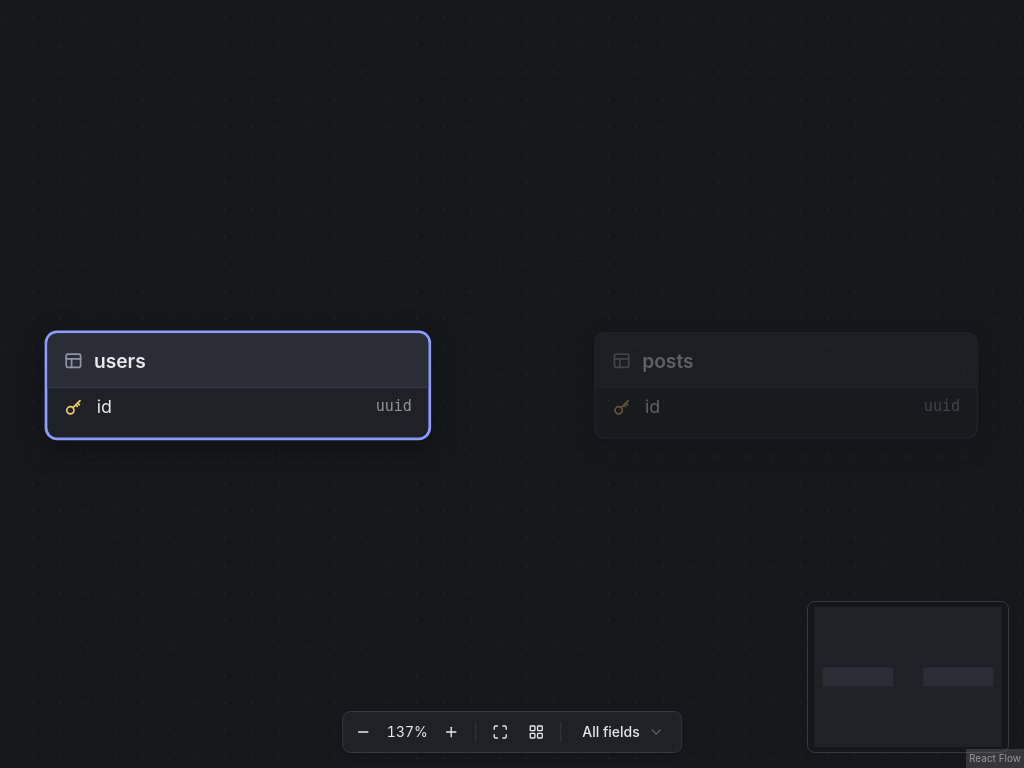
DiagramCanvas layout feedback › asks before replacing the layout, and keeps it when cancelled
Click the button named "Rearrange all tables" at (536, 732), box [520,716,552,748]
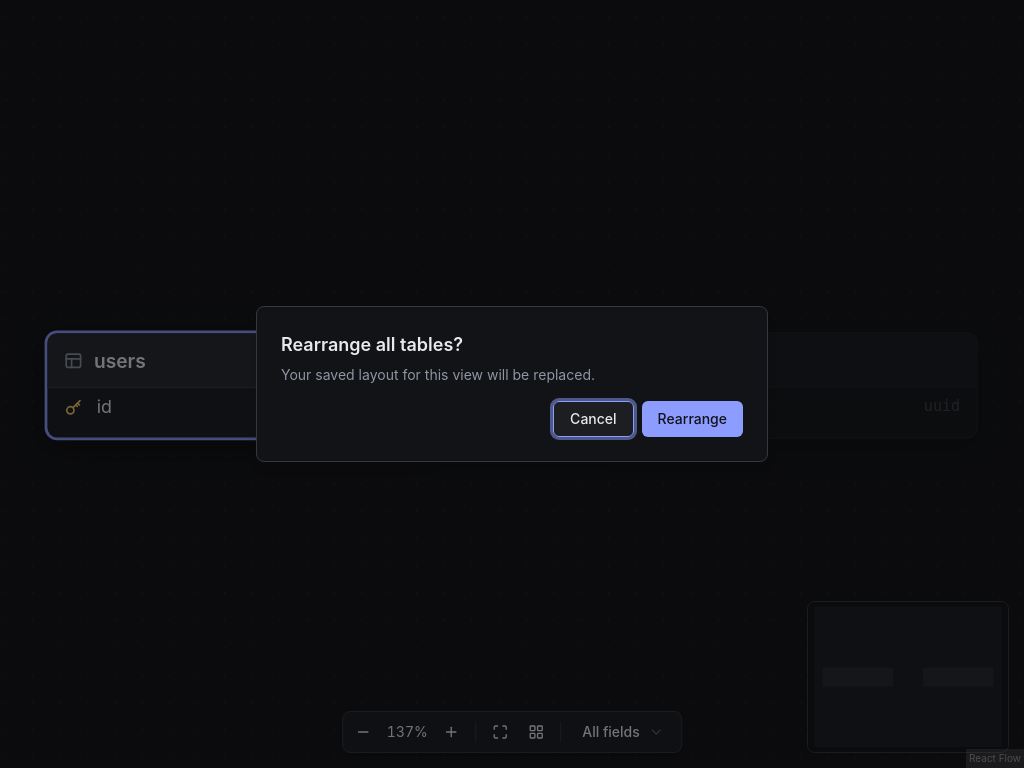
Now the dialog "Rearrange all tables?" is shown, box [256,306,768,462]
Click the button "Cancel" at (593, 419), box [553,401,634,437]
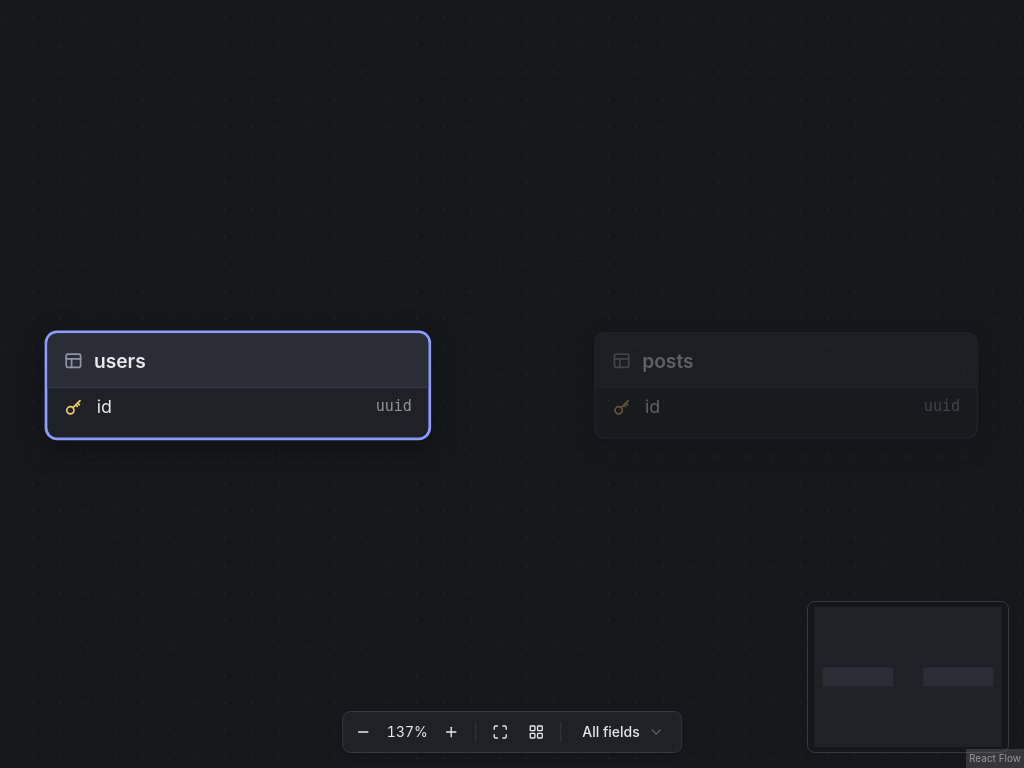
Now the dialog is gone
